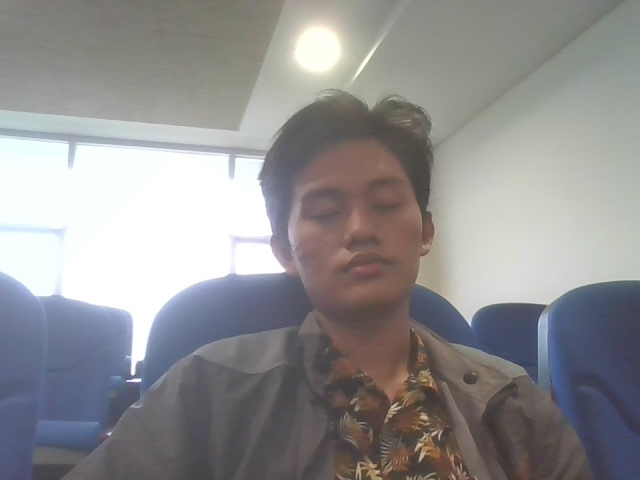Drowsy: (227, 94, 483, 409)
